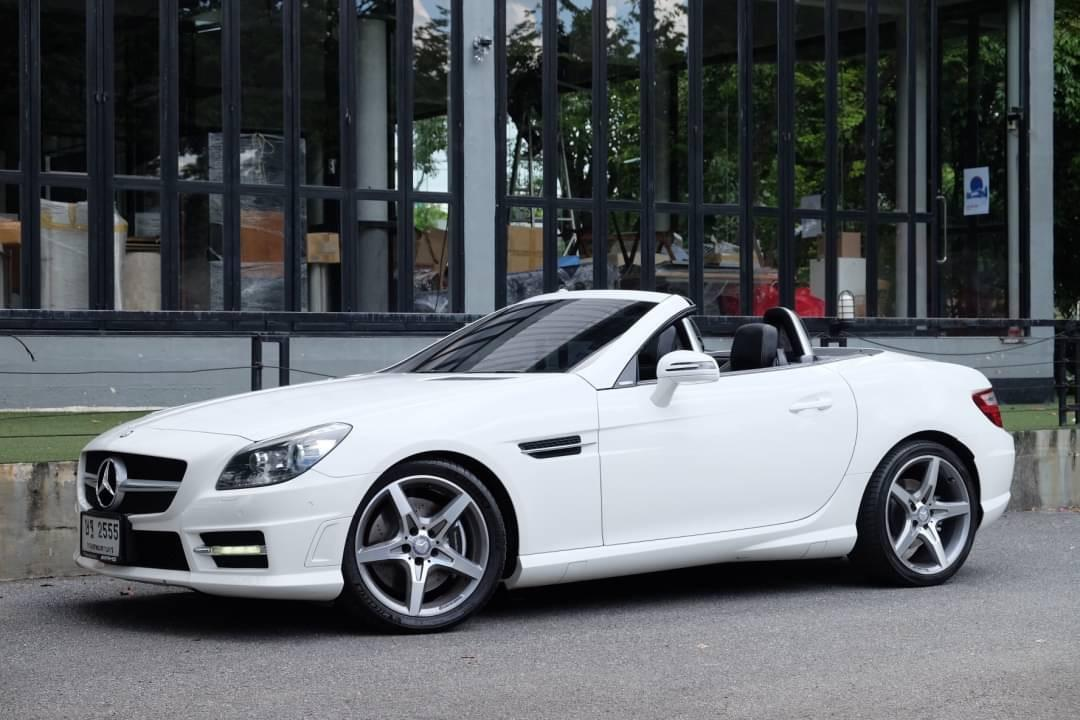license-plate: (67, 507, 143, 572)
